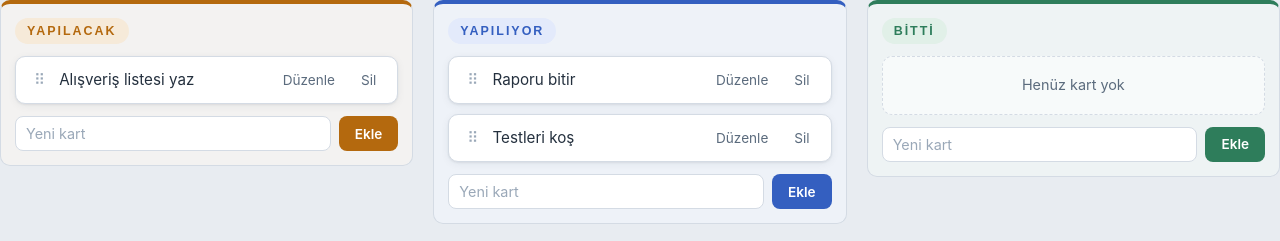
iptal edilince başlık değişmez ve API çağrılmaz
Click the button "Düzenle" next to "Alışveriş listesi yaz" at (309, 80), box [274, 67, 344, 93]
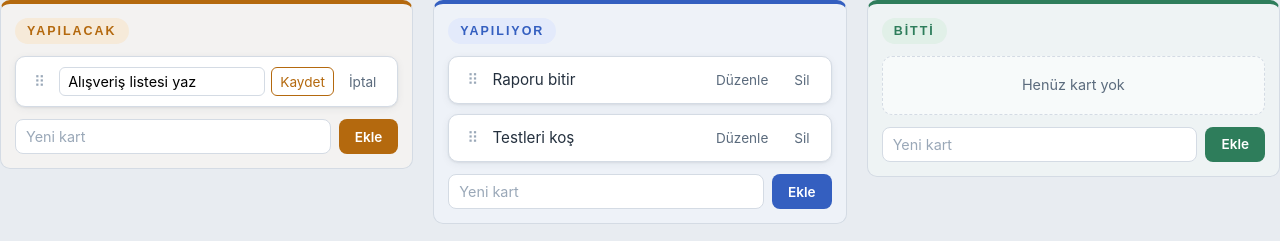
Replace the text in the field named "Kart başlığını düzenle" with "Vazgeçilen değişiklik" at (162, 82), box [59, 67, 265, 96]
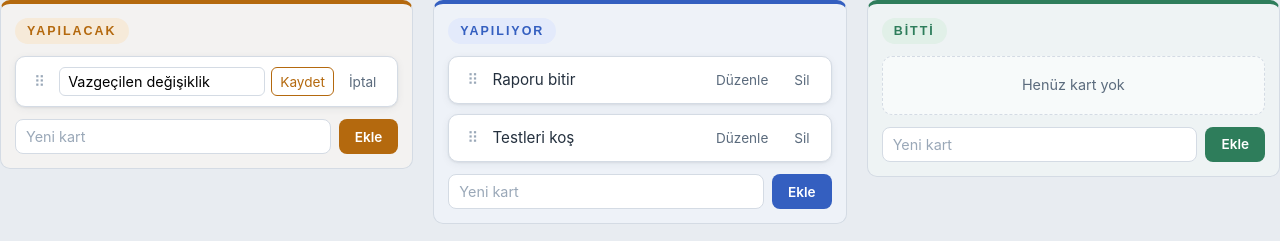
Click the button "İptal" at (363, 82), box [340, 67, 385, 96]
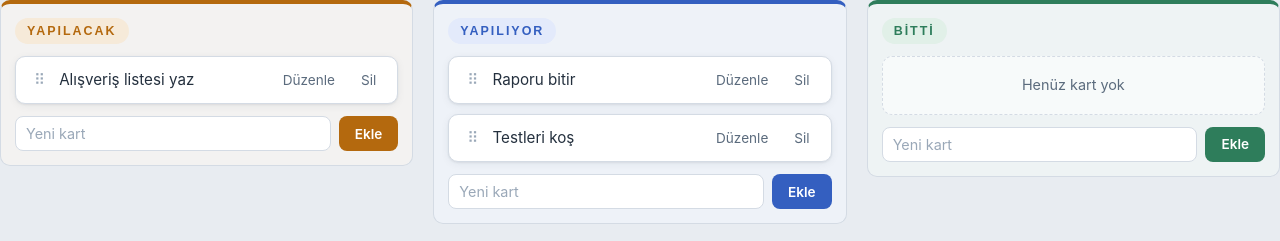
Expected: the text "Vazgeçilen değişiklik" is not shown
Expected: the text "Alışveriş listesi yaz" is shown, [59, 70, 194, 89]
